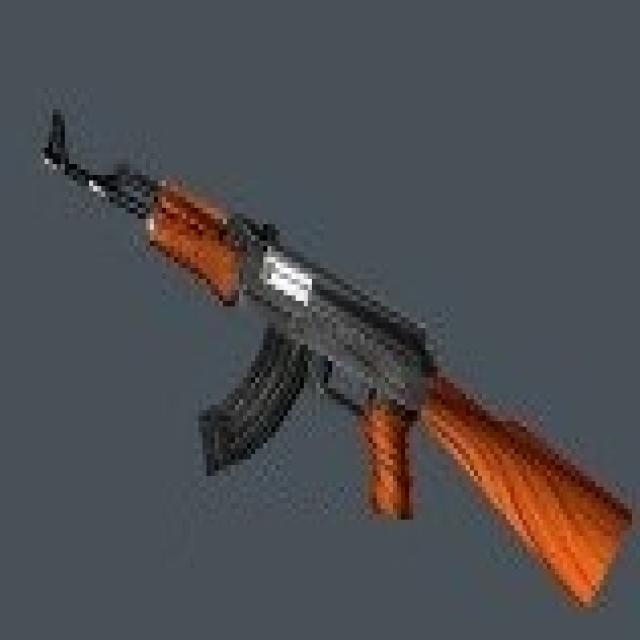Gun: (33, 93, 624, 592)
